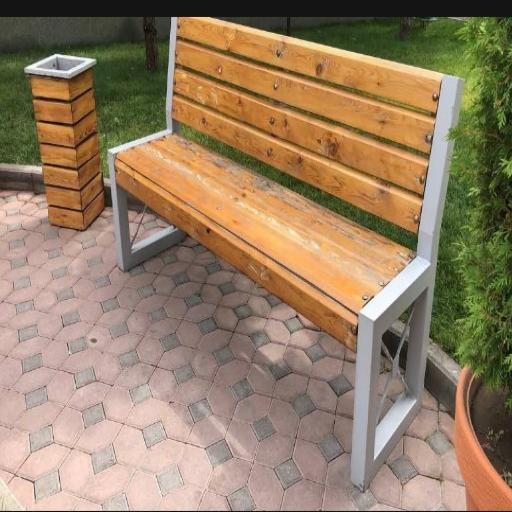ramp: (25, 55, 104, 230)
trash_bin: (109, 17, 462, 489)
